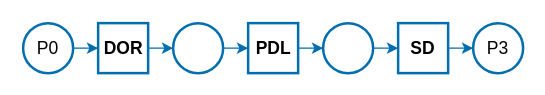
Some shapes in this 545 by 95 pixel diagram are drawn without their labels. The shapes that lost their labels are listed below. From the top down, each one's centre as x and y in pixels, then its label:
At (197,47): "P1".
At (347,47): "P2".
